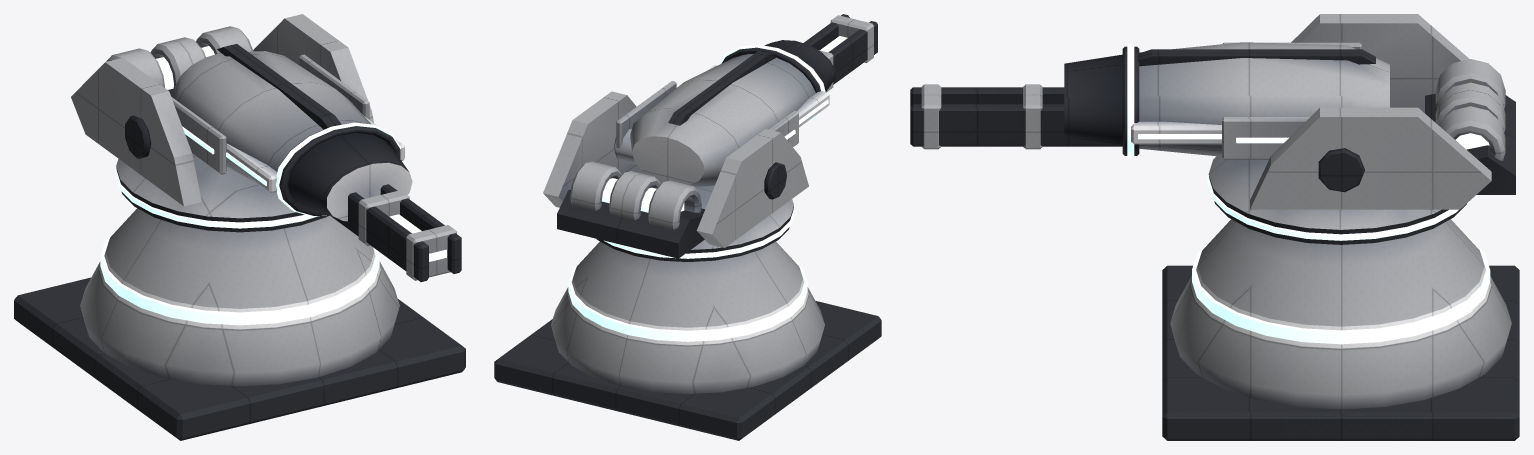
The model's file is R4W_Basic_LOD1.glb.
3 views of the same model, side by side, from view 1: azimuth 30°, elevation 25°; view 2: azimuth 150°, elevation 25°; view 3: azimuth 270°, elevation 25° (orthographic). The views are drawn at different scales.
Visible parts, largest first — view 1: R4W_Basic_LOD1; view 2: R4W_Basic_LOD1; view 3: R4W_Basic_LOD1.
Part boxes in pixels (box(x1,y1,x2,y2)): R4W_Basic_LOD1: box(14, 14, 465, 440); R4W_Basic_LOD1: box(494, 14, 881, 440); R4W_Basic_LOD1: box(910, 14, 1519, 440).
Bounding box in the file's own units: 0.51 × 0.496 × 0.87.
4 materials, 3 textured.
